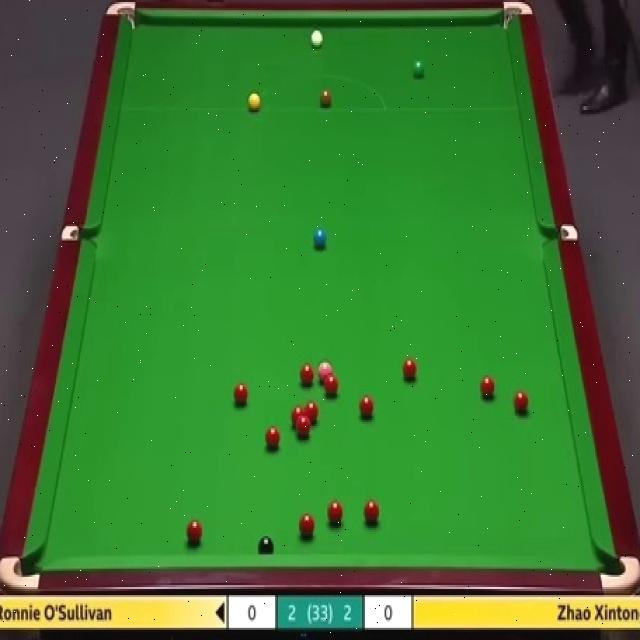black-ball: (258, 536, 274, 555)
blue-ball: (312, 224, 327, 250)
brown-ball: (319, 89, 332, 107)
green-ball: (410, 59, 426, 79)
pink-ball: (319, 361, 333, 384)
red-ball: (401, 356, 418, 385), (363, 498, 380, 525), (513, 391, 530, 418), (186, 518, 203, 544), (479, 375, 496, 400), (358, 394, 374, 420), (234, 384, 250, 409), (328, 500, 343, 526), (300, 513, 315, 538), (265, 426, 280, 450), (305, 402, 319, 426), (324, 374, 339, 396), (297, 418, 310, 438), (292, 405, 304, 426), (301, 366, 314, 385)
white-ball: (309, 26, 324, 50)
yellow-ball: (247, 91, 261, 111)
